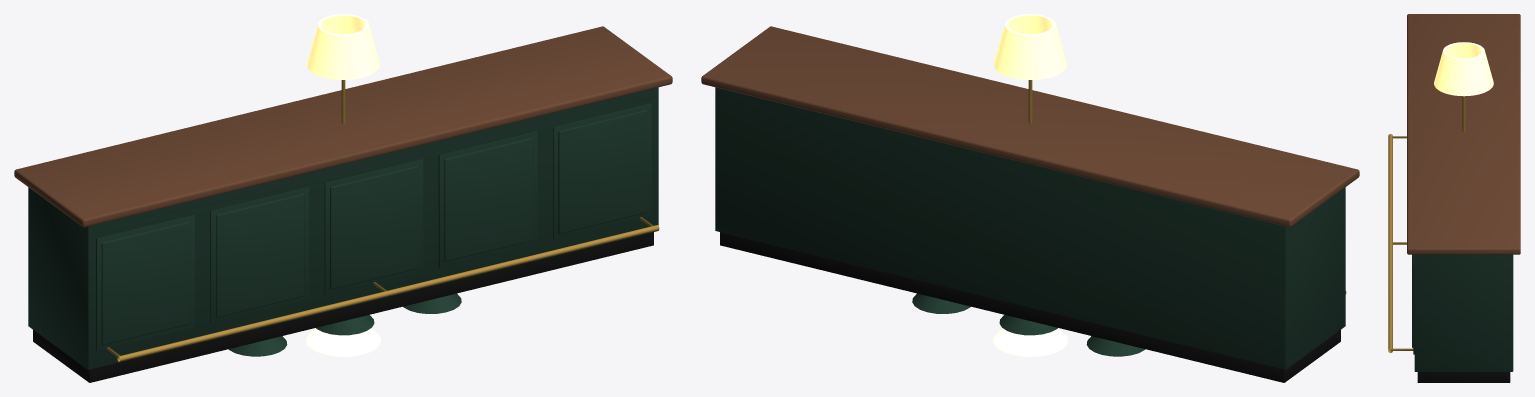
Rendered from hifi.glb.
The picture shows the model from 3 angles, left to right: view 1: azimuth 30°, elevation 25°; view 2: azimuth 150°, elevation 25°; view 3: azimuth 270°, elevation 25°; orthographic projection. The views are drawn at different scales.
Visible parts, largest first — view 1: counter, floorlamp, billard, holophane; view 2: counter, floorlamp, billard, holophane; view 3: counter, floorlamp.
Part boxes in pixels (x1,y1,x2,y2): counter: (14,26,672,382); floorlamp: (307,14,379,123); billard: (228,293,461,356); holophane: (306,328,380,356); counter: (701,26,1359,382); floorlamp: (994,14,1066,123); billard: (912,293,1145,356); holophane: (993,328,1067,356); counter: (1388,14,1520,382); floorlamp: (1434,42,1493,131).
Size of the model in its own units: 3.72 by 1.92 by 0.886.
